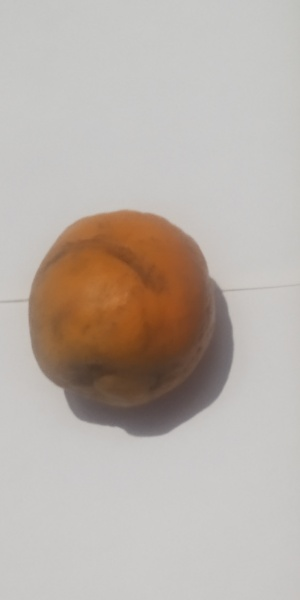BAD: (30, 209, 214, 409)
